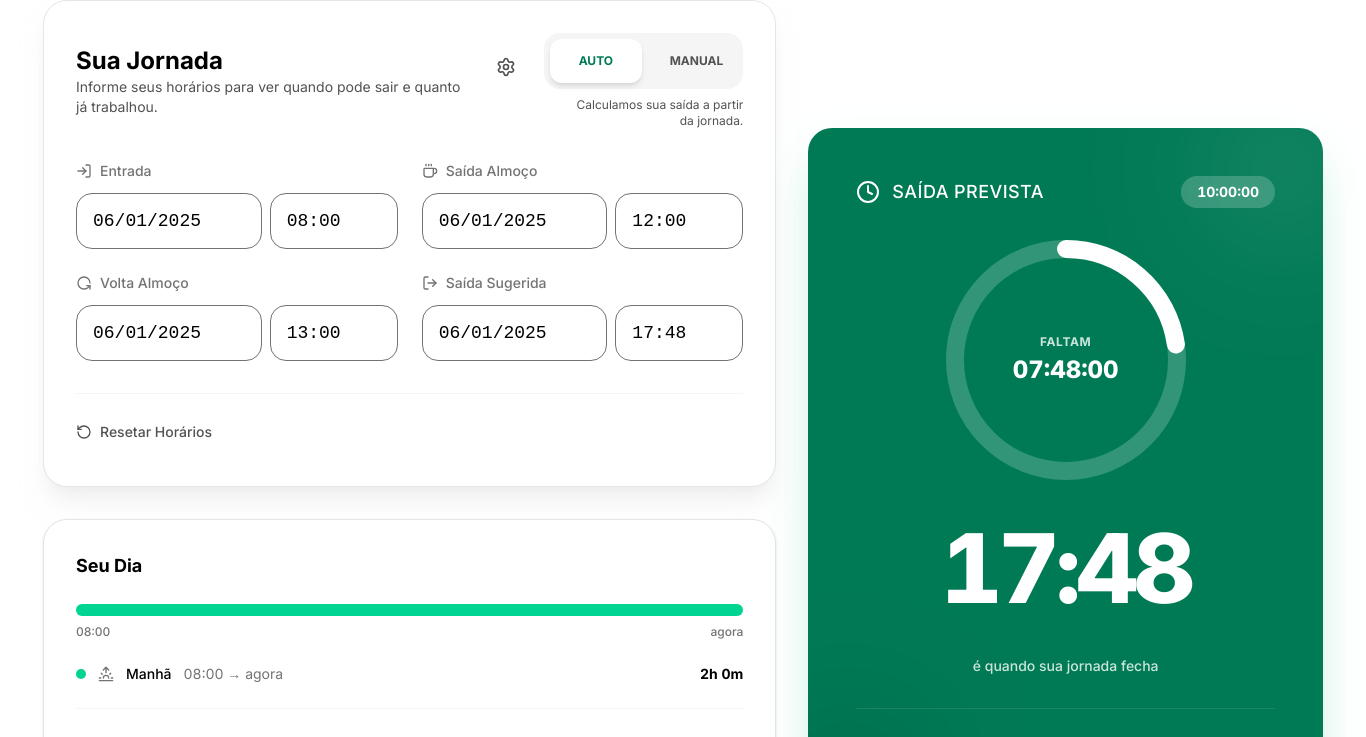
Scenario: WorkCalculator › replaces the day summary with an explanation when the journey is out of order
This screenshot has width=1366, height=737.
Replace the text in the field named "Hora para Saída Almoço" with "0700" at (679, 221), box [615, 193, 743, 249]
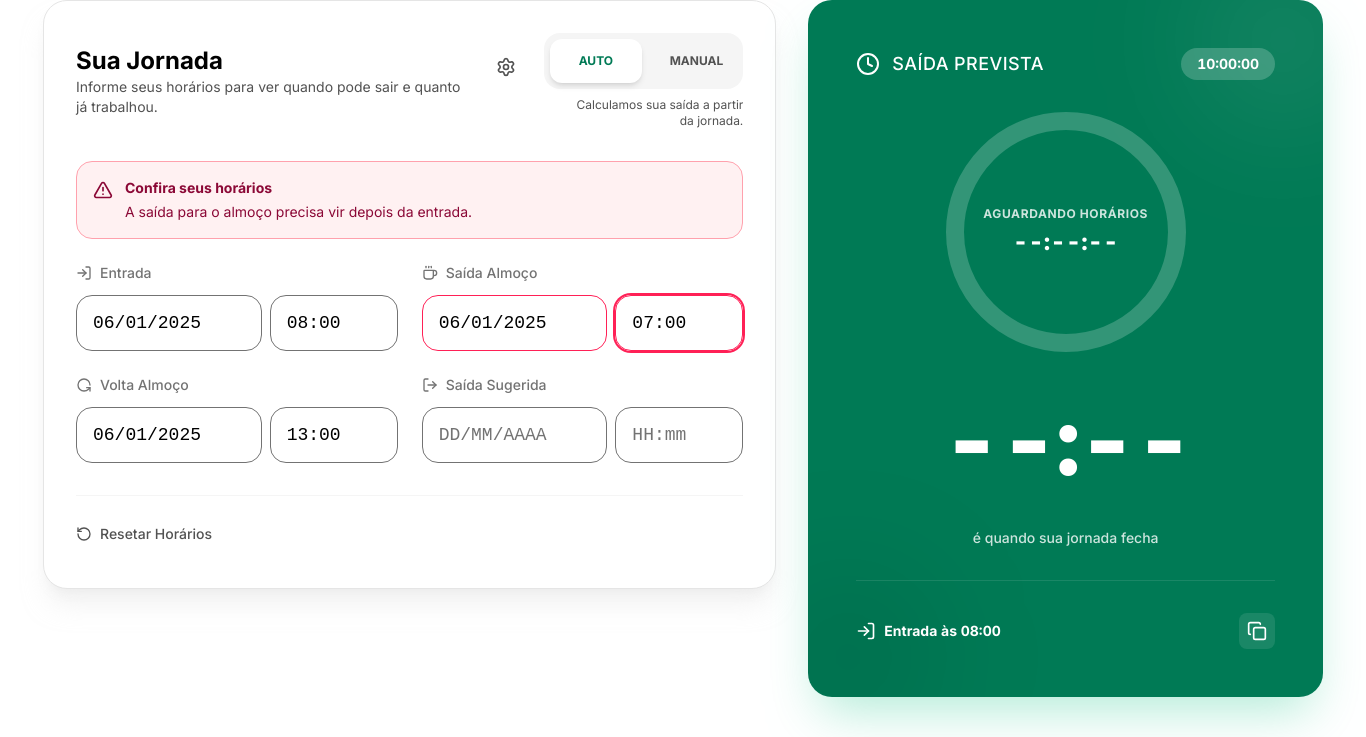
Expected: the message shows "A saída para o almoço precisa vir depois da entrada.", [125, 203, 472, 220]
Expected: the heading "Seu Dia" is gone
